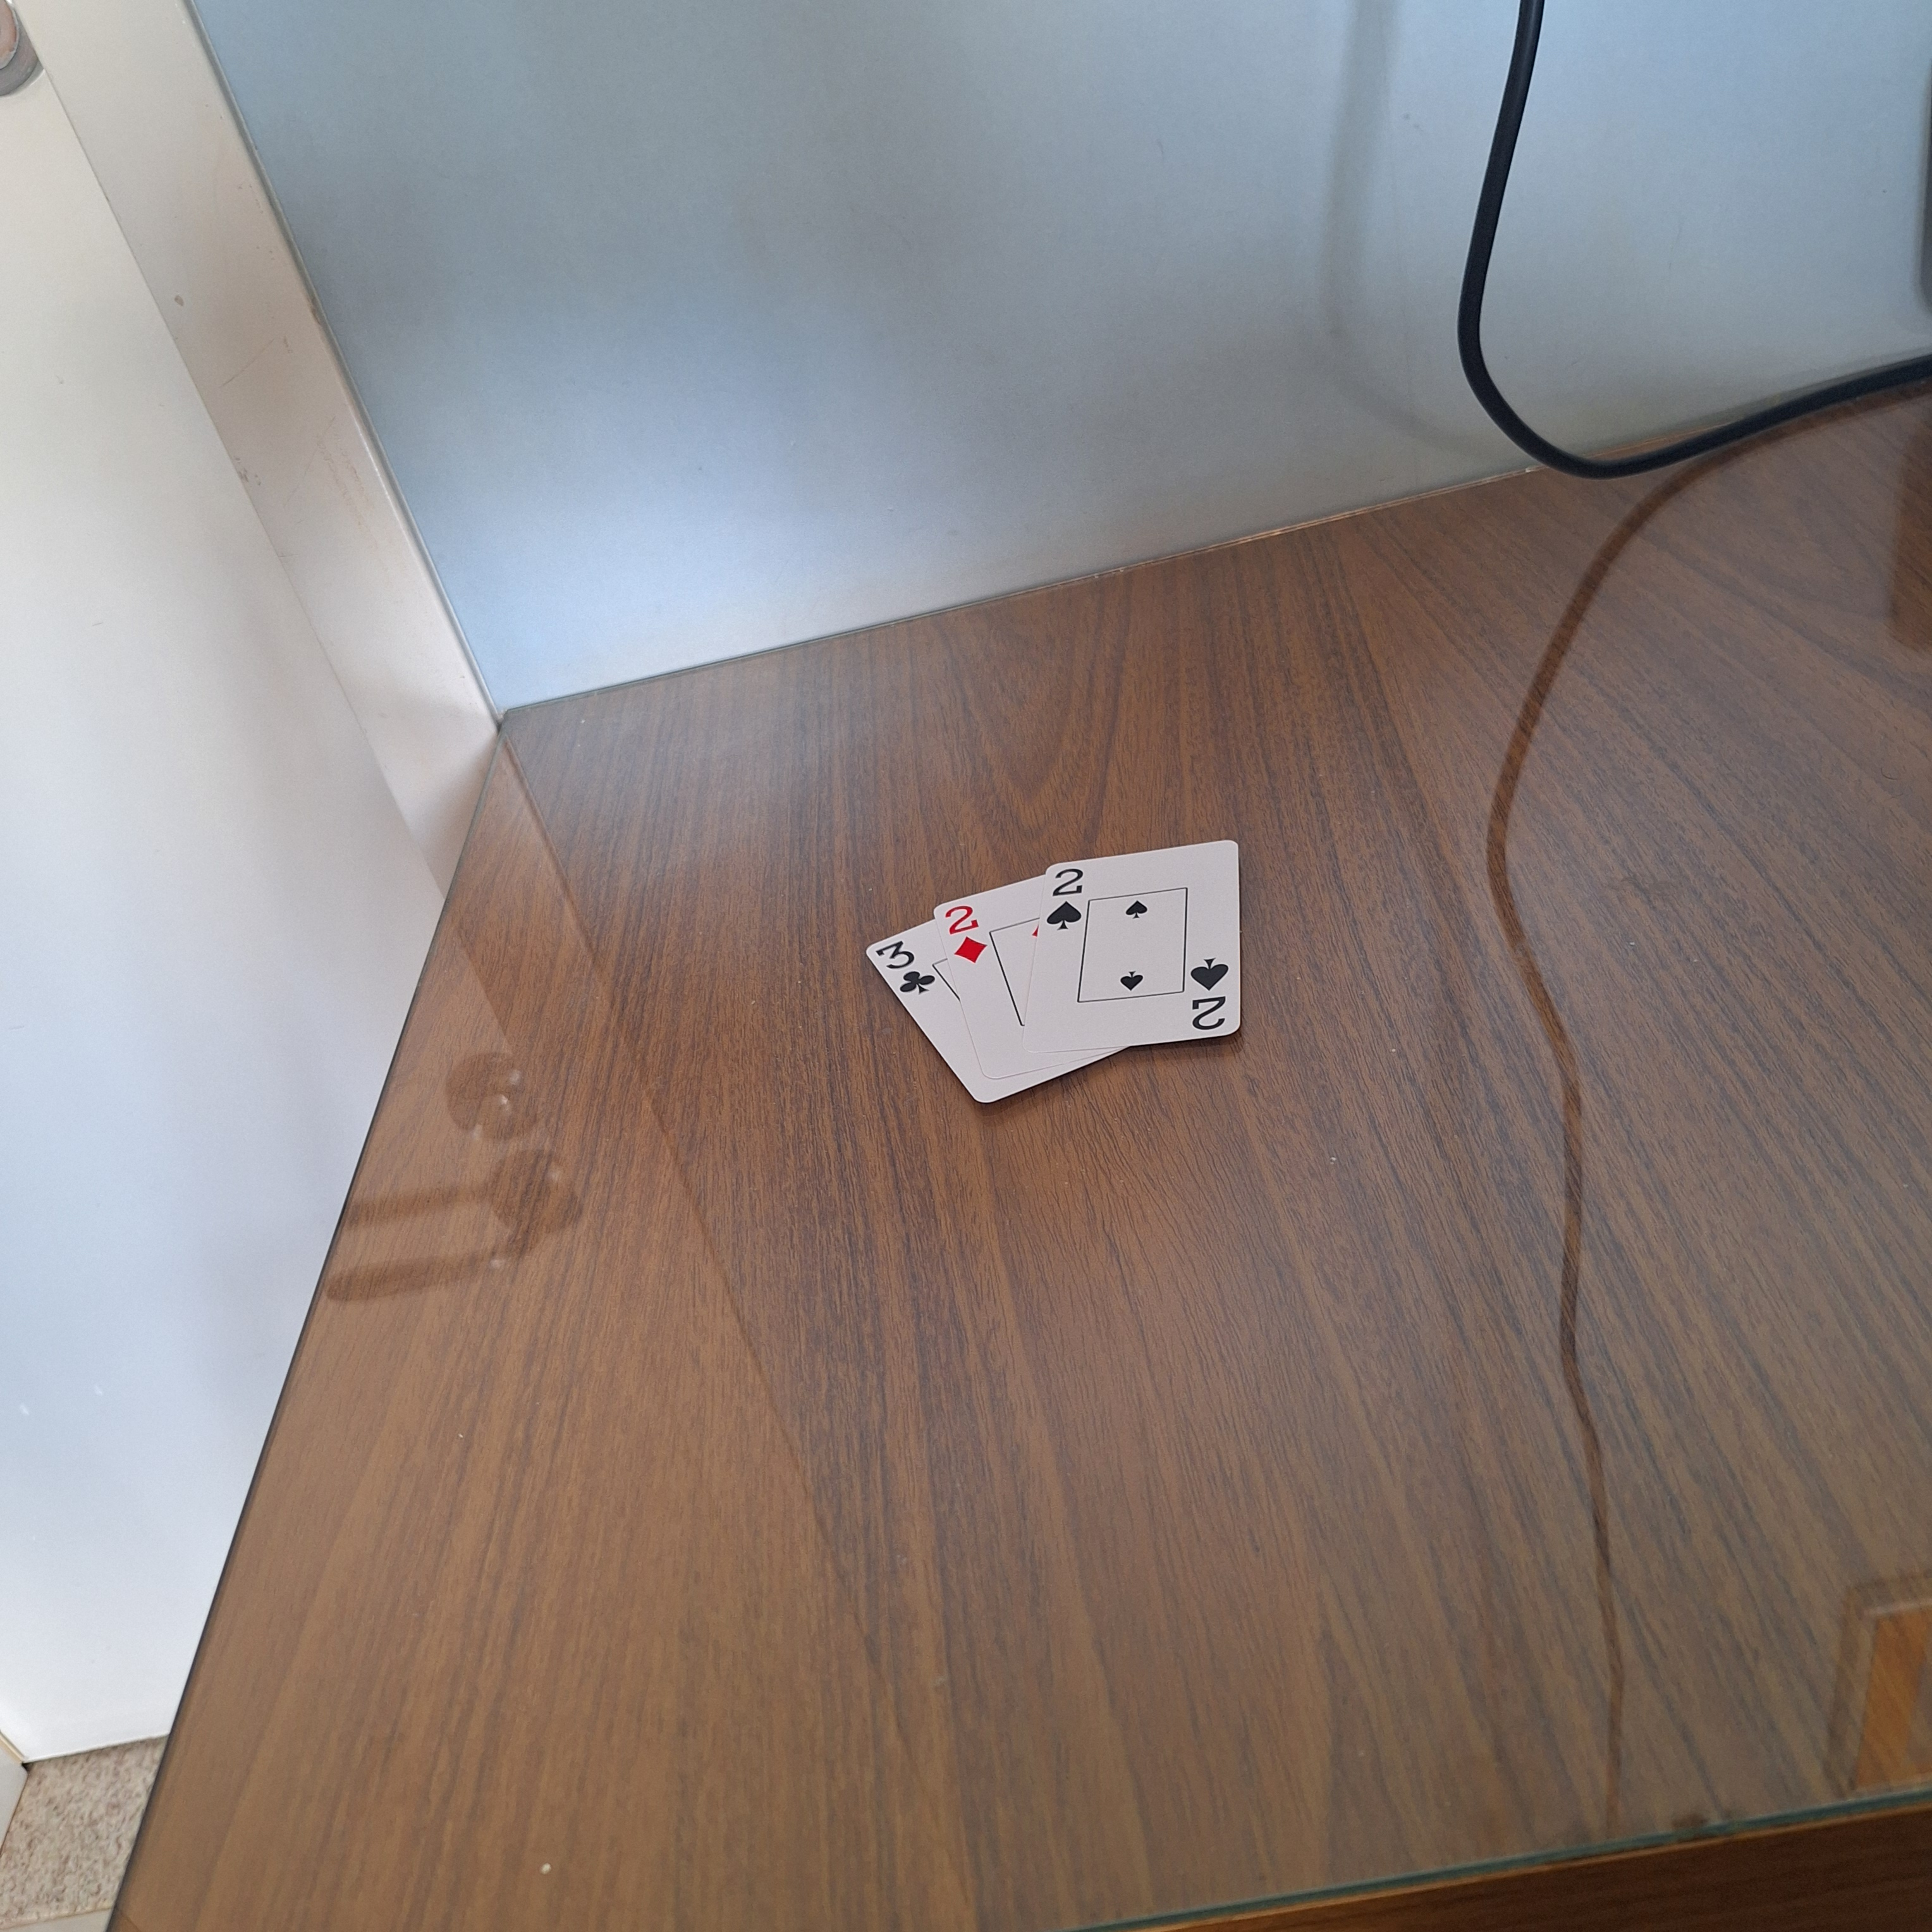2E: (1180, 948, 1238, 1035), (1042, 862, 1085, 936)
2O: (941, 899, 1000, 966)
3P: (869, 931, 939, 1000)
